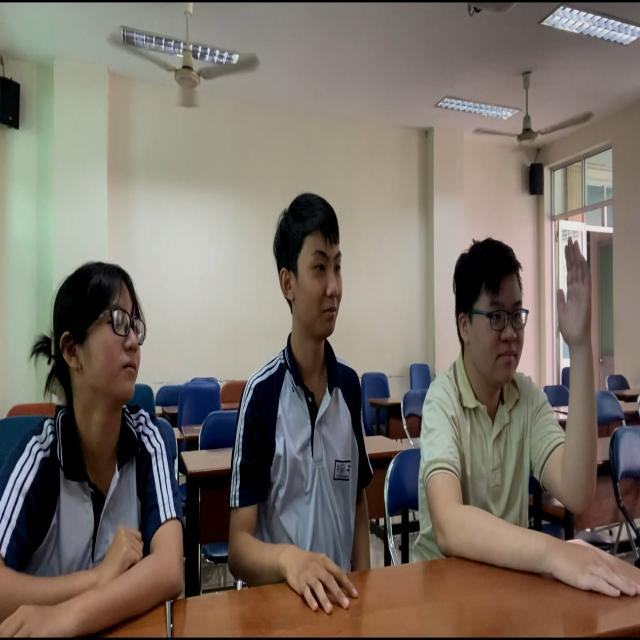raise_hand: (423, 228, 612, 593)
